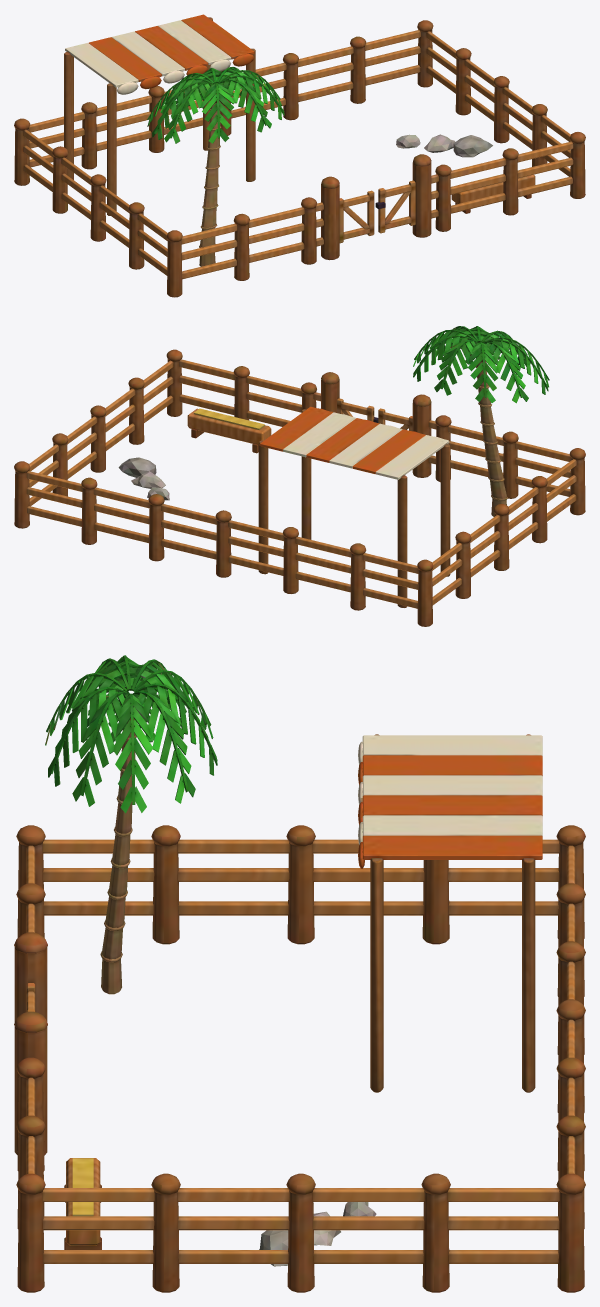
File: camel_corral.glb
3 renders of one model, top to bottom at view 1: azimuth 30°, elevation 25°; view 2: azimuth 150°, elevation 25°; view 3: azimuth 270°, elevation 25°, orthographic. The views are drawn at different scales.
Parts seen in each view (by area): view 1: camel_corral, gate1, gate0; view 2: camel_corral, gate1, gate0; view 3: camel_corral.
Boxes of the visible parts, x1,y1,x2,y2 form: camel_corral: [14, 14, 585, 297]; gate1: [375, 180, 415, 233]; gate0: [339, 190, 374, 243]; camel_corral: [14, 326, 585, 626]; gate1: [337, 398, 378, 422]; gate0: [378, 408, 412, 431]; camel_corral: [14, 655, 585, 1292].
Size of the model in its own units: 3 by 1.24 by 2.01.
Materials: 1 (1 with a texture image).
